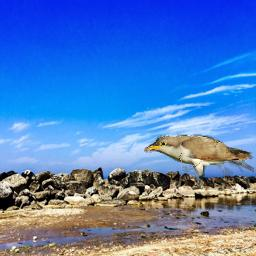Cuckoo: (144, 134, 254, 186)
